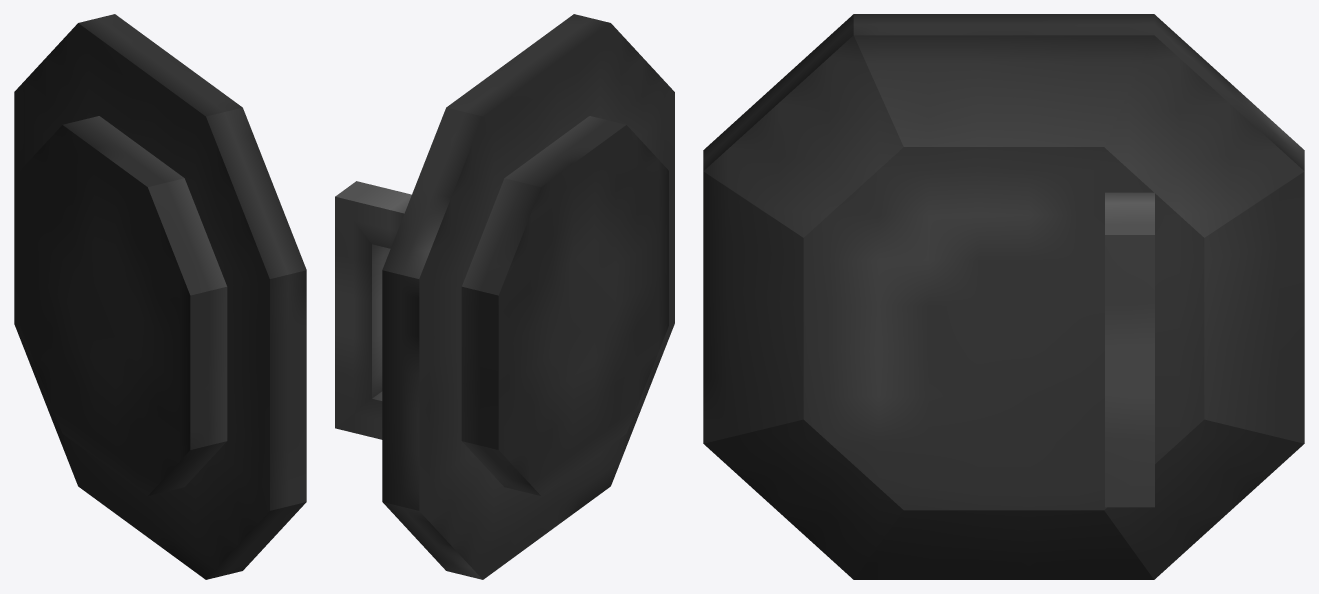
The model's file is firebox_door.obj.
3 renders of one model, left to right at view 1: azimuth 30°, elevation 25°; view 2: azimuth 150°, elevation 25°; view 3: azimuth 270°, elevation 25°, orthographic. The views are drawn at different scales.
Parts seen in each view (by area): view 1: Door; view 2: Door; view 3: Door.
Part boxes in pixels (<box>): Door: <box>14,14,306,579</box>; Door: <box>335,14,674,579</box>; Door: <box>703,14,1304,579</box>.
Bounding box in the file's own units: 0.3125 × 0.75 × 0.75.
